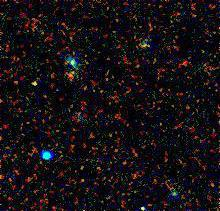star: (20, 67, 50, 97)
